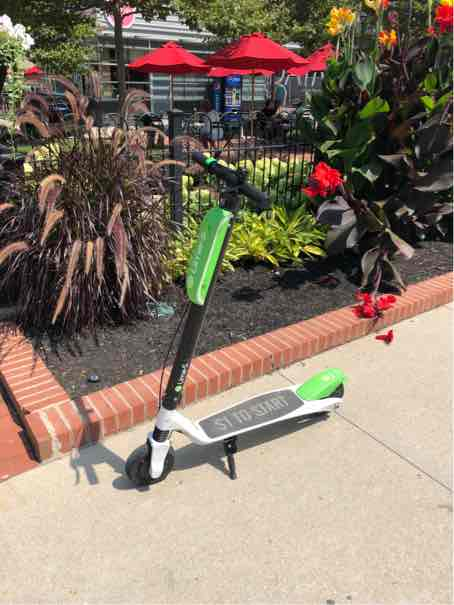scooter: (125, 140, 357, 503)
